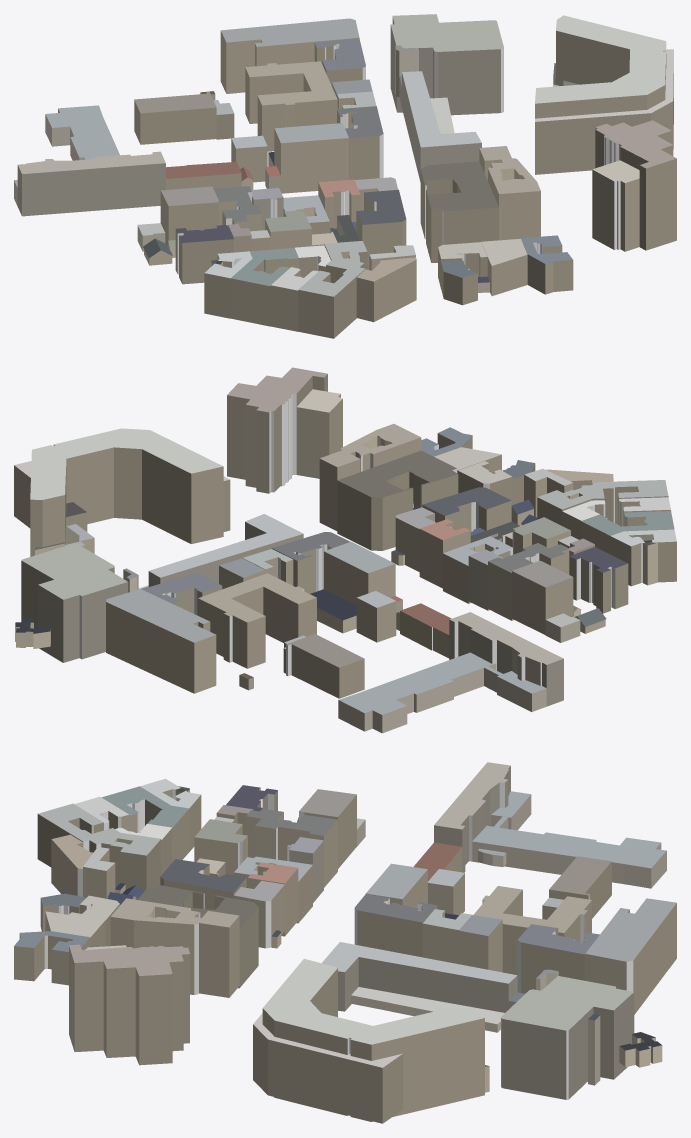
The picture shows the model from 3 angles, top to bottom: view 1: azimuth 30°, elevation 25°; view 2: azimuth 150°, elevation 25°; view 3: azimuth 270°, elevation 25°; orthographic projection. The views are drawn at different scales.
Visible parts, largest first — view 1: tuile; view 2: tuile; view 3: tuile.
Part boxes in pixels (<box>): tuile: <box>14,14,676,338</box>; tuile: <box>14,367,676,733</box>; tuile: <box>14,762,676,1123</box>.
Size of the model in its own units: 298 by 50.18 by 262.
